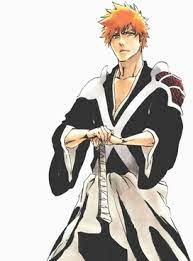Ichigo: (101, 6, 147, 64)
